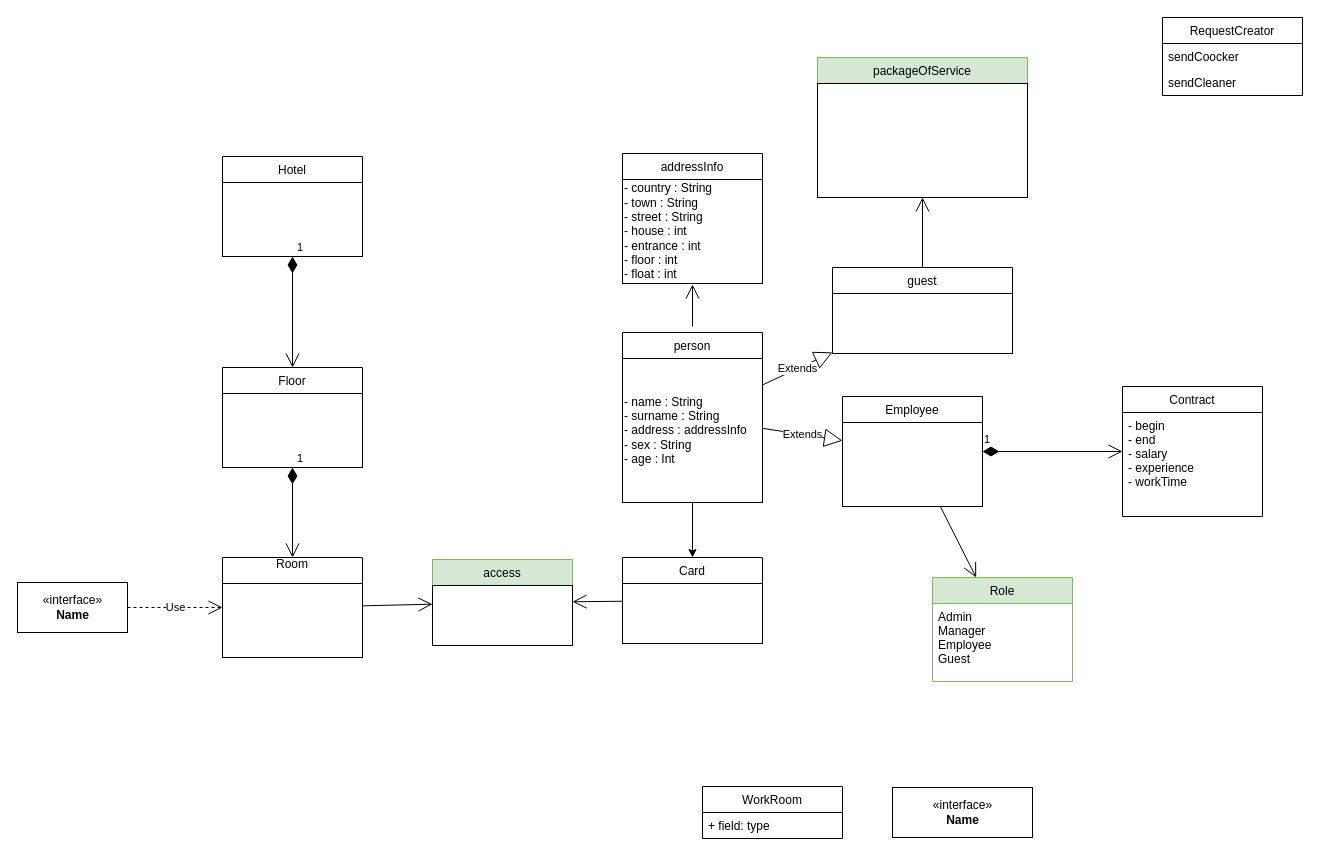
Some shapes in this 1320 by 859 pixel diagram are drawn without their labels. Each missing label, with the centre of its shape:
- accessType : access - expireData : int - num : int - role : Role: the point at 692,613
- address : AddressInfo - accessLevel : access :: the point at 292,219
- floorNum - accessLevel : access :: the point at 292,430
- role : Role - contract : Contract -: the point at 912,464
- room : Room - status : packageOfService - role : Role: the point at 922,323
- roomNum - floor : Floor - accessLevel : access - badsQuantity : int: the point at 292,620
Hotel ///: the point at 502,615
